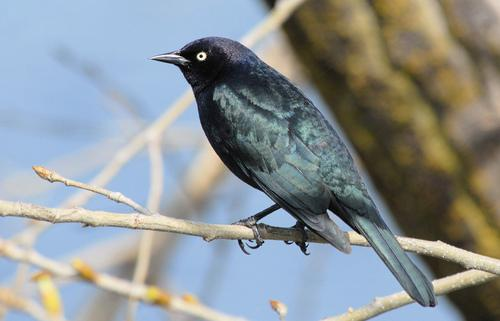009.Brewer_Blackbird: (148, 36, 437, 310)
